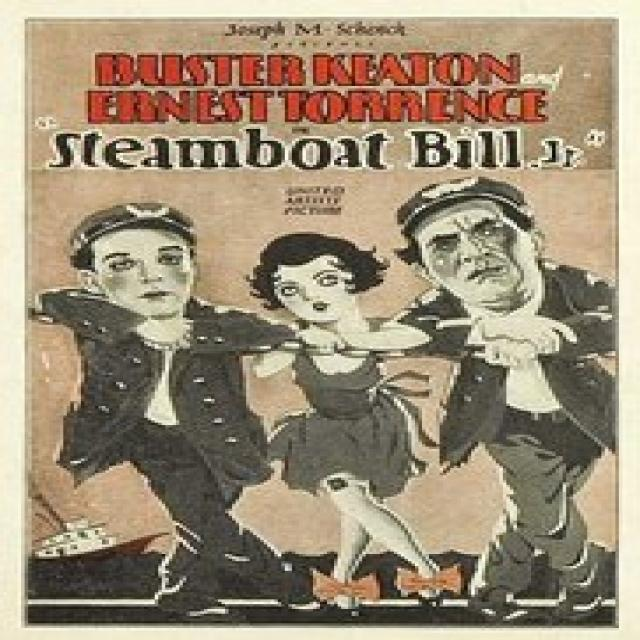movie-judul: (26, 35, 598, 179)
picture: (30, 184, 613, 628)
